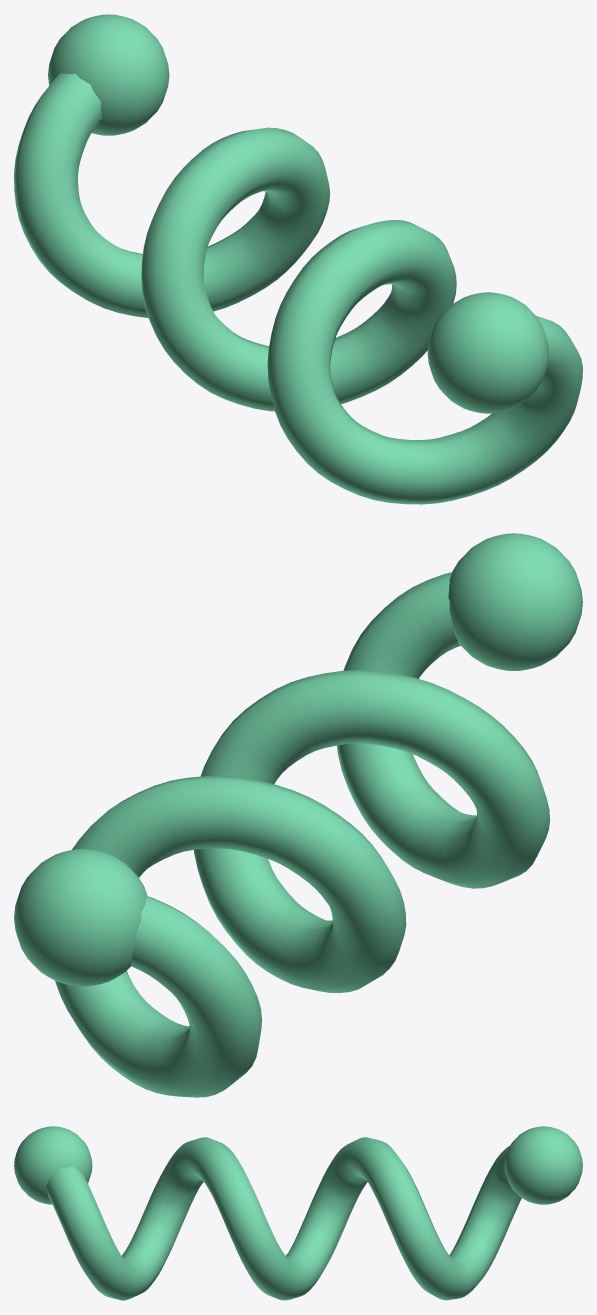
The model's file is gluon.glb.
The picture shows the model from 3 angles, top to bottom: view 1: azimuth 30°, elevation 25°; view 2: azimuth 150°, elevation 25°; view 3: azimuth 270°, elevation 25°; orthographic projection. The views are drawn at different scales.
Visible parts, largest first — view 1: gluon_textured_mesh; view 2: gluon_textured_mesh; view 3: gluon_textured_mesh.
Part boxes in pixels (x1=…): gluon_textured_mesh: x1=14, y1=14, x2=582, y2=504; gluon_textured_mesh: x1=14, y1=533, x2=582, y2=1097; gluon_textured_mesh: x1=14, y1=1126, x2=582, y2=1300.
Size of the model in its own units: 0.7302 by 0.7254 by 2.32.
Materials: 1 (1 with a texture image).
